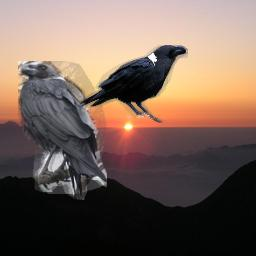Crow: (18, 61, 107, 200), (79, 45, 188, 123)
